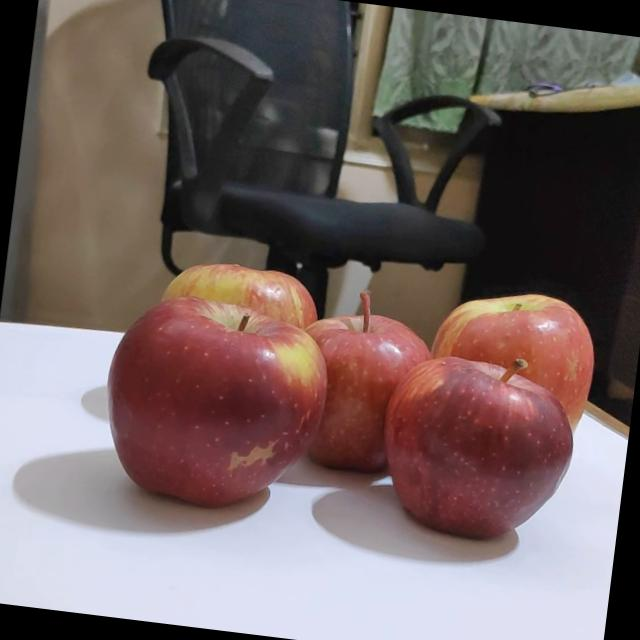apple: (90, 284, 342, 522), (378, 342, 592, 548), (283, 280, 456, 484), (419, 278, 606, 453), (142, 250, 328, 394)
